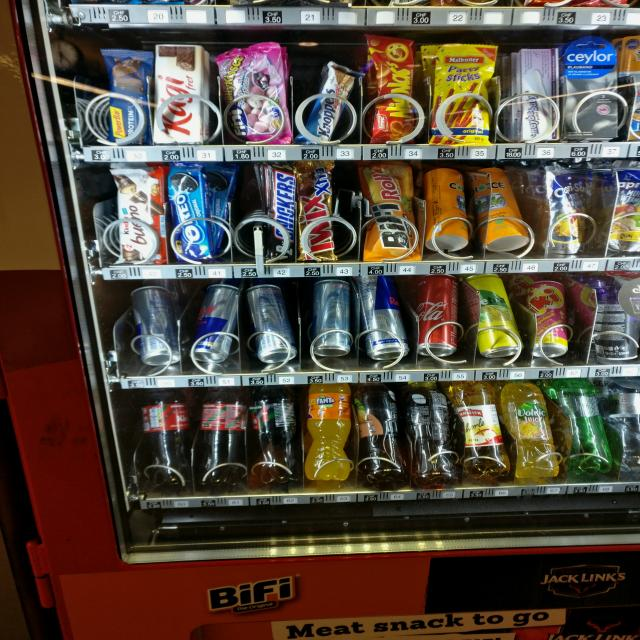bifi_roll__50__4251097402635: (358, 160, 422, 260)
bueno___43__4008400320328: (108, 165, 168, 262)
c-swiss_dosenabisicetea__33__9120025930135: (468, 163, 534, 251), (418, 164, 473, 253)
caferoyal_classicmacchiato__33__7617014164487: (587, 275, 640, 360)
caprisun_multivitamin__20__4000177605004: (548, 165, 590, 254), (601, 161, 640, 247)
coke__dose_33__54491472: (419, 274, 460, 356)
coke__flasche_50__54491472: (138, 383, 198, 485), (198, 385, 250, 484), (252, 385, 304, 482)
fanta___50__40822938: (305, 382, 362, 481)
fini_jellykisses_packung_80_1_8410525116704: (214, 42, 292, 139)
fuse_lemon__50__5449000235947: (402, 378, 460, 485)
fuse_lemon_dose_33__5449000235947: (462, 271, 526, 358)
fuse_peach__50__5449000236623: (352, 382, 412, 483)
kagi___50__7610046000259: (154, 42, 209, 144)
knoppers_riegel____4035800488808: (301, 60, 360, 138)
lorenz_nicnacs__40__4018077798818: (364, 29, 421, 141)
malburner_partysticks__40__7610200279682: (432, 45, 496, 151)
oreo___66__84100733: (172, 162, 212, 264)
powerbar_proteinplusschoko__55__4029679520028: (104, 48, 152, 144)
ramseier_schorle__50__7610057012456: (448, 379, 512, 474)
redbull___33__90162909: (358, 276, 414, 362), (128, 285, 186, 365), (242, 283, 298, 362), (187, 282, 238, 368), (306, 279, 354, 355)
snickers___50__5000159461122: (256, 165, 304, 263)
tiki_himbeer_brause__50__00000000009342: (521, 277, 576, 360)
twix___50__5000159459228: (295, 161, 342, 261)
valser_classic__50__76404160: (544, 379, 613, 471)
volvic_pinapple__50__305764335648: (496, 377, 564, 478)
